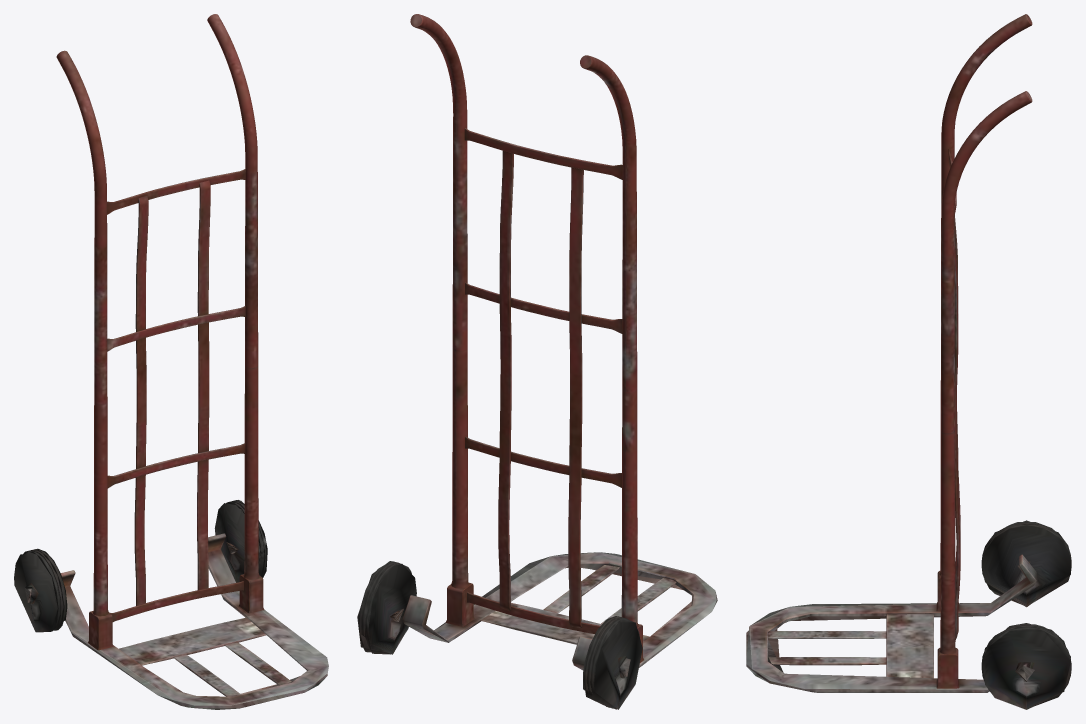
Rendered from hand_truck.glb.
The picture shows the model from 3 angles, left to right: view 1: azimuth 30°, elevation 25°; view 2: azimuth 150°, elevation 25°; view 3: azimuth 270°, elevation 25°; orthographic projection. The views are drawn at different scales.
Visible parts, largest first — view 1: hand_truck; view 2: hand_truck; view 3: hand_truck.
Boxes of the visible parts, <box> form: hand_truck: <box>14,14,328,709</box>; hand_truck: <box>357,14,717,709</box>; hand_truck: <box>746,14,1071,709</box>.
Size of the model in its own units: 0.5789 by 1.4 by 0.6876.
Materials: 1 (1 with a texture image).
